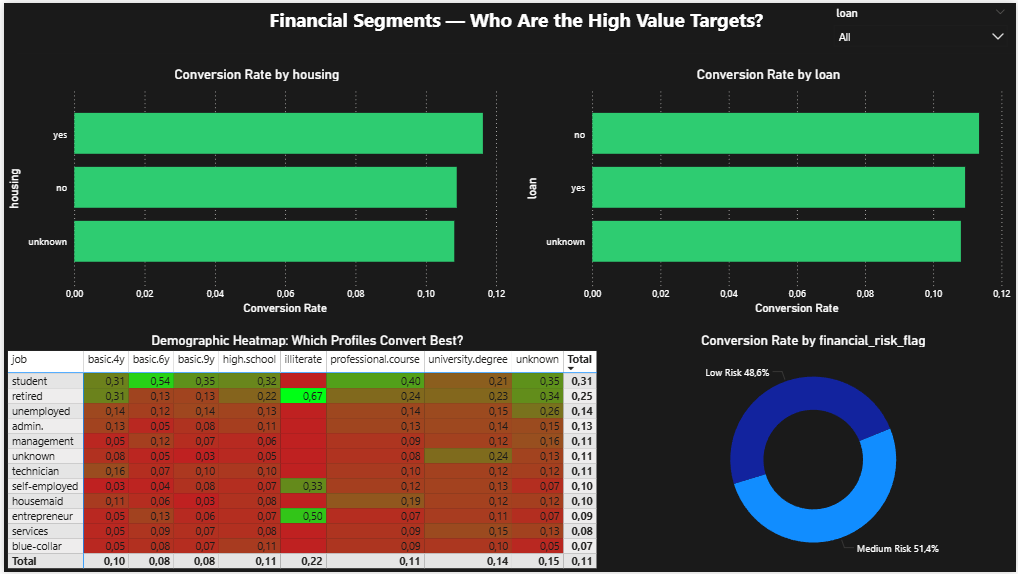

This screenshot's page, from the dashboard's own definition file:
{"tool":"powerbi","page":{"name":"Financial Segments","canvas":[1280,720],"ordinal":3},"visuals":[{"type":"textbox","box":[16,0,1264,64],"z":0},{"type":"barChart","fields":{"Category":["bank_telemarketing_cleaned.housing"],"Y":["bank_telemarketing_cleaned.Conversion Rate"]},"box":[0,80,640,320],"z":1000},{"type":"barChart","fields":{"Y":["bank_telemarketing_cleaned.Conversion Rate"],"Category":["bank_telemarketing_cleaned.loan"]},"box":[656,80,624,320],"z":2000},{"type":"pivotTable","title":"Demographic Heatmap: Which Profiles Convert Best?","fields":{"Values":["bank_telemarketing_cleaned.Conversion Rate"],"Rows":["bank_telemarketing_cleaned.job"],"Columns":["bank_telemarketing_cleaned.education"]},"box":[0,416,768,304],"z":3000},{"type":"donutChart","fields":{"Category":["bank_telemarketing_cleaned.financial_risk_flag"],"Y":["bank_telemarketing_cleaned.Conversion Rate"]},"box":[768,416,512,304],"z":4000},{"type":"slicer","fields":{"Values":["bank_telemarketing_cleaned.loan"]},"box":[1040,0,240,64],"z":5000}]}

Visuals, with their boxes in screenshot pixels (x1, y1, x2, y2), scaled from the page's 1280x720 canvas onto the 1018x574 screenshot:
textbox: <bbox>13, 0, 1017, 51</bbox>
barChart - bank_telemarketing_cleaned.housing x bank_telemarketing_cleaned.Conversion Rate: <bbox>0, 64, 509, 319</bbox>
barChart - bank_telemarketing_cleaned.Conversion Rate x bank_telemarketing_cleaned.loan: <bbox>522, 64, 1017, 319</bbox>
"Demographic Heatmap: Which Profiles Convert Best?" pivotTable: <bbox>0, 332, 611, 573</bbox>
donutChart - bank_telemarketing_cleaned.financial_risk_flag x bank_telemarketing_cleaned.Conversion Rate: <bbox>611, 332, 1017, 573</bbox>
slicer - bank_telemarketing_cleaned.loan: <bbox>827, 0, 1017, 51</bbox>
